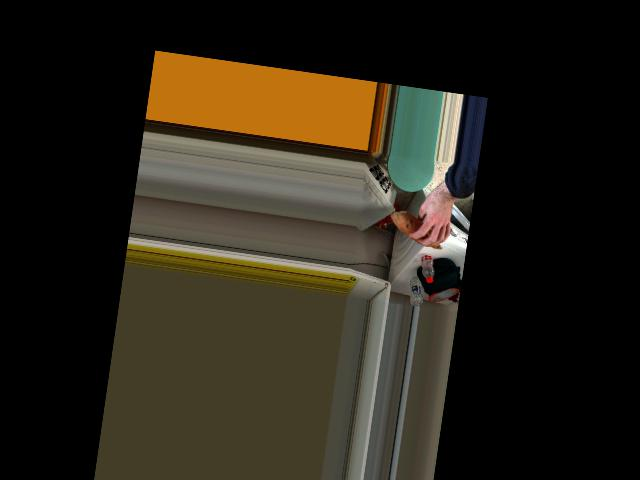sweet_potato: (389, 210, 449, 250)
